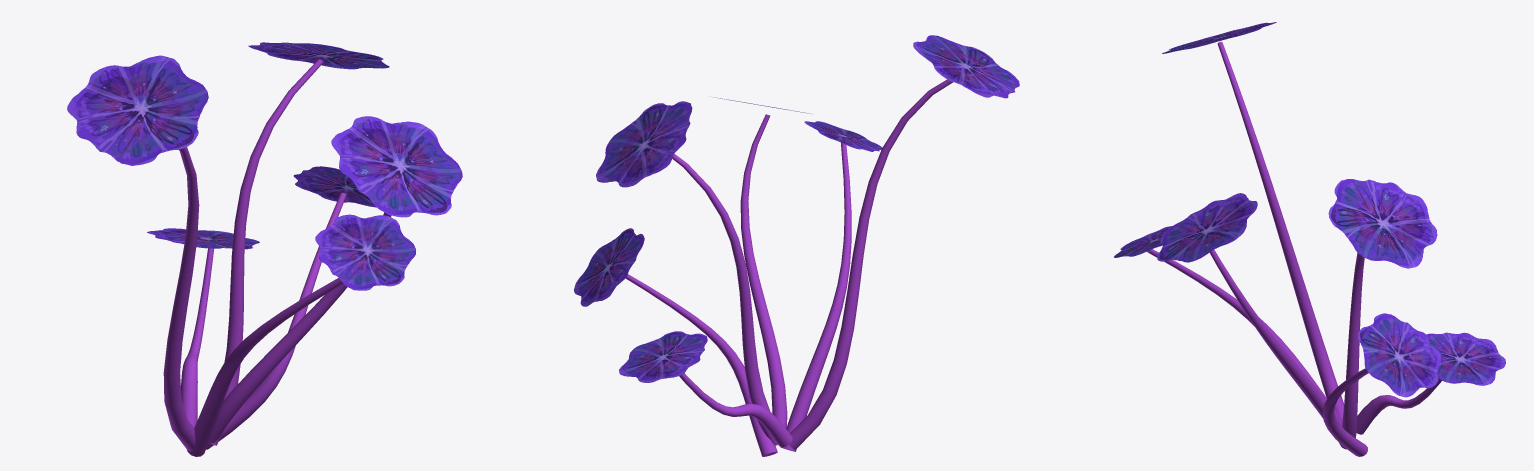
Rendered from plante_violette3.fbx.
The picture shows the model from 3 angles, left to right: view 1: azimuth 30°, elevation 25°; view 2: azimuth 150°, elevation 25°; view 3: azimuth 270°, elevation 25°; orthographic projection. The views are drawn at different scales.
Visible parts, largest first — view 1: feuille4.013, feuille4.016, feuille4.014, BezierCurve.013, BezierCurve.014, BezierCurve.012, BezierCurve.017, BezierCurve.015, feuille4.017, BezierCurve.016, feuille4.015, feuille4.012; view 2: feuille4.017, BezierCurve.013, feuille4.013, BezierCurve.017, BezierCurve.012, BezierCurve.014, feuille4.012, feuille4.015, BezierCurve.015, BezierCurve.016, feuille4.014; view 3: feuille4.017, feuille4.015, BezierCurve.013, feuille4.016, feuille4.012, BezierCurve.014, BezierCurve.017, BezierCurve.015, BezierCurve.012, BezierCurve.016, feuille4.014, feuille4.013.
Boxes of the visible parts, x1,y1,x2,y2 form: feuille4.013: [67, 55, 208, 165]; feuille4.016: [331, 116, 462, 217]; feuille4.014: [315, 214, 415, 290]; BezierCurve.013: [163, 147, 199, 451]; BezierCurve.014: [210, 59, 323, 445]; BezierCurve.012: [187, 278, 342, 456]; BezierCurve.017: [207, 212, 391, 446]; BezierCurve.015: [206, 192, 346, 449]; feuille4.017: [248, 42, 389, 69]; BezierCurve.016: [181, 248, 213, 427]; feuille4.015: [293, 166, 376, 207]; feuille4.012: [147, 228, 259, 249]; feuille4.017: [596, 101, 692, 187]; BezierCurve.013: [789, 79, 952, 449]; feuille4.013: [913, 35, 1019, 98]; BezierCurve.017: [740, 114, 787, 441]; BezierCurve.012: [780, 143, 851, 451]; BezierCurve.014: [672, 154, 777, 445]; feuille4.012: [619, 331, 707, 382]; feuille4.015: [574, 228, 644, 306]; BezierCurve.015: [625, 274, 777, 456]; BezierCurve.016: [679, 373, 792, 446]; feuille4.014: [804, 121, 882, 151]; feuille4.017: [1328, 179, 1437, 268]; feuille4.015: [1358, 313, 1441, 397]; BezierCurve.013: [1217, 41, 1343, 419]; feuille4.016: [1157, 193, 1257, 262]; feuille4.012: [1426, 332, 1505, 385]; BezierCurve.014: [1340, 253, 1364, 449]; BezierCurve.017: [1209, 249, 1342, 426]; BezierCurve.015: [1323, 368, 1368, 456]; BezierCurve.012: [1147, 249, 1339, 443]; BezierCurve.016: [1356, 378, 1441, 434]; feuille4.014: [1113, 226, 1172, 257]; feuille4.013: [1162, 22, 1276, 53].
Size of the model in its own units: 165 by 167 by 161.
Materials: 2 (1 with a texture image).
